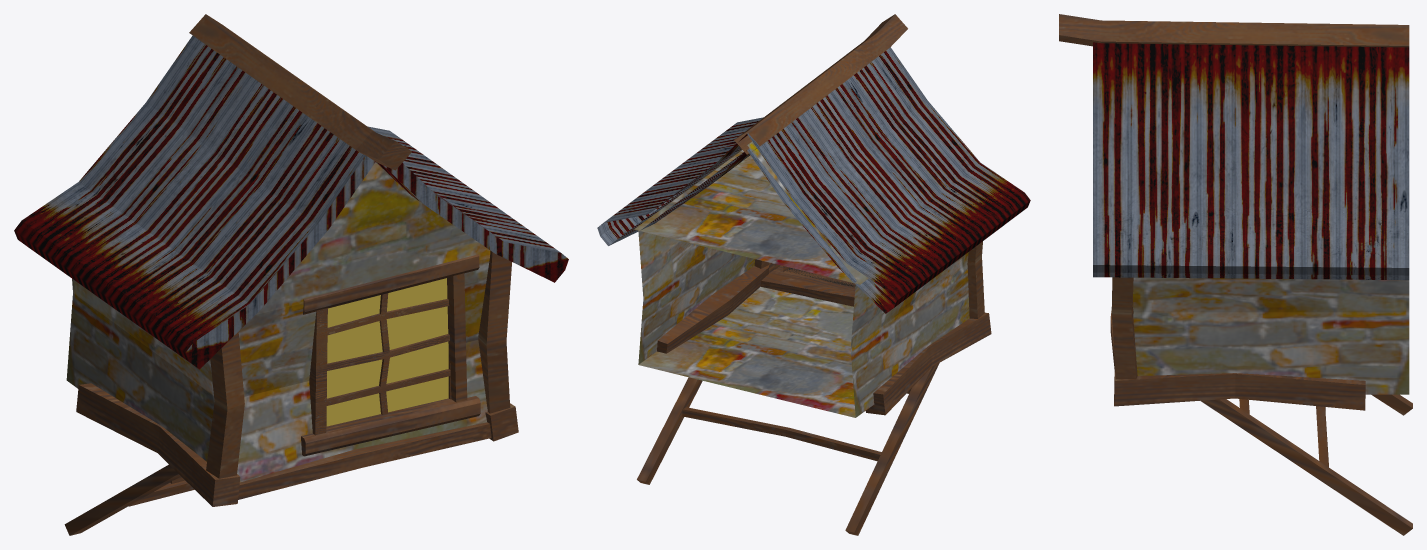
Rendered from Wall House.fbx.
The picture shows the model from 3 angles, left to right: view 1: azimuth 30°, elevation 25°; view 2: azimuth 150°, elevation 25°; view 3: azimuth 270°, elevation 25°; orthographic projection. The views are drawn at different scales.
Parts seen in each view (by area): view 1: Cube.053; view 2: Cube.053; view 3: Cube.053.
Boxes of the visible parts, x1,y1,x2,y2 form: Cube.053: [14, 14, 568, 535]; Cube.053: [597, 14, 1030, 535]; Cube.053: [1059, 14, 1412, 535].
Bounding box in the file's own units: 360 × 447 × 312.
